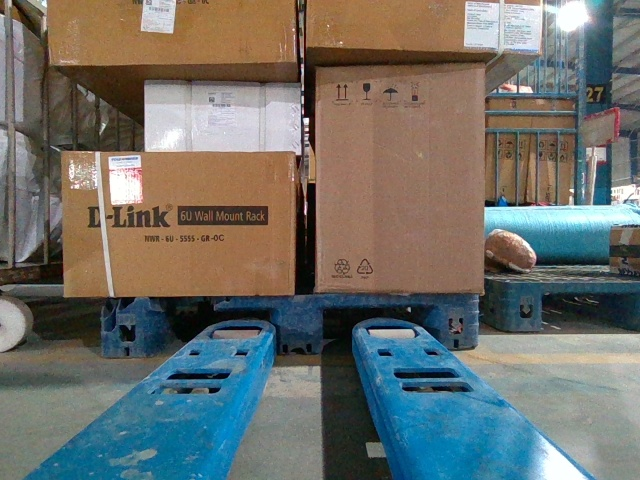block: (101, 295, 159, 361), (267, 295, 323, 356), (427, 294, 479, 351), (504, 281, 545, 331)
front: (103, 293, 480, 354)
hole pallet: (153, 305, 276, 356), (323, 303, 433, 355), (545, 292, 637, 329)
